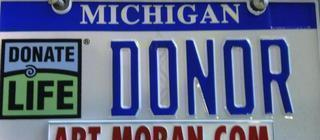placa de veiculo: (2, 2, 319, 135)
